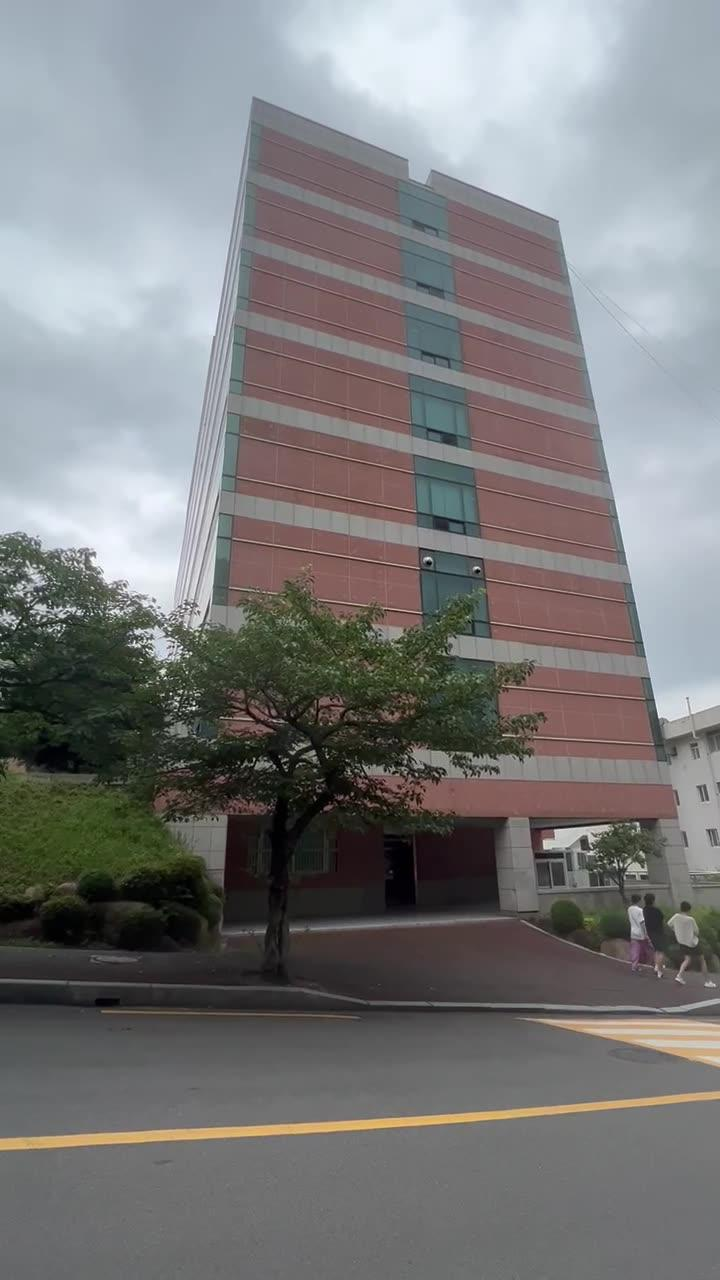building: (154, 102, 596, 616)
